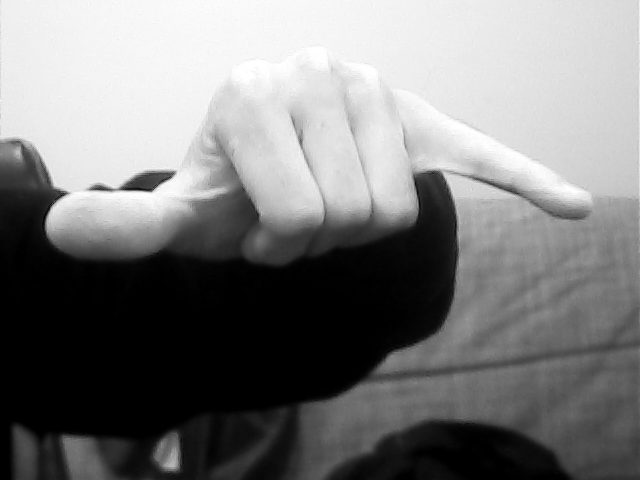aloha: (41, 40, 596, 281)
